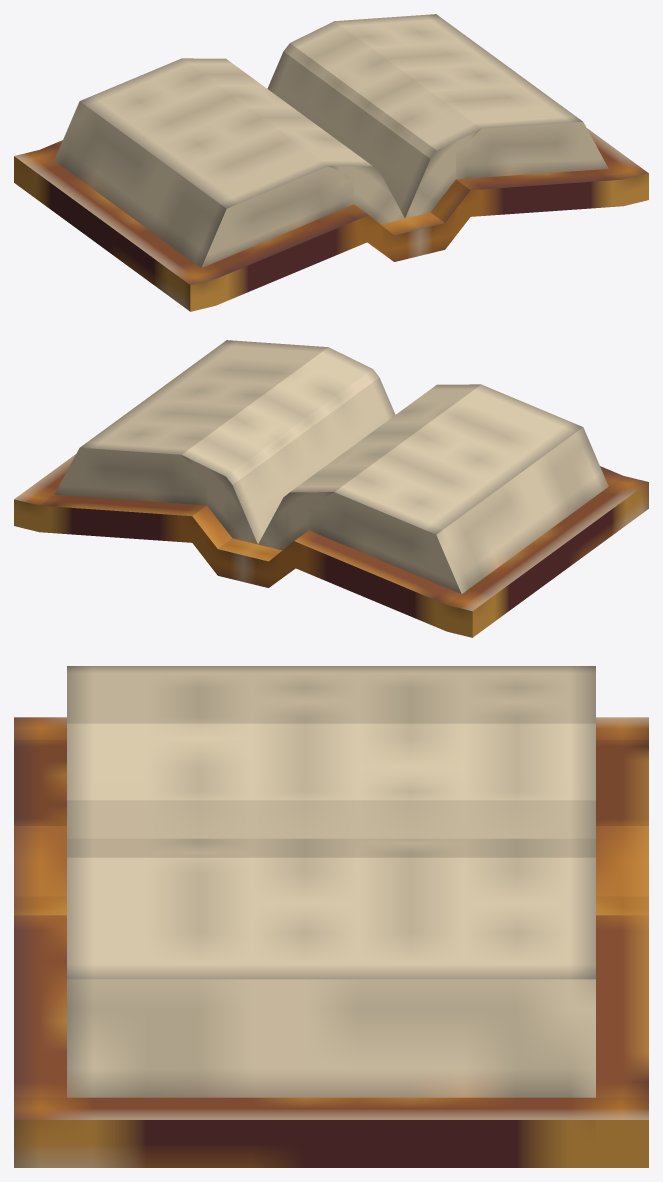
The model's file is BookOpen.fbx.
The picture shows the model from 3 angles, top to bottom: view 1: azimuth 30°, elevation 25°; view 2: azimuth 150°, elevation 25°; view 3: azimuth 270°, elevation 25°; orthographic projection. The views are drawn at different scales.
Parts seen in each view (by area): view 1: Cube.014; view 2: Cube.014; view 3: Cube.014.
Part boxes in pixels (bbox=[...]): Cube.014: bbox=[14, 14, 648, 311]; Cube.014: bbox=[14, 340, 648, 637]; Cube.014: bbox=[14, 666, 648, 1167].
Bounding box in the file's own units: 1.12 × 0.75 × 0.2292.
